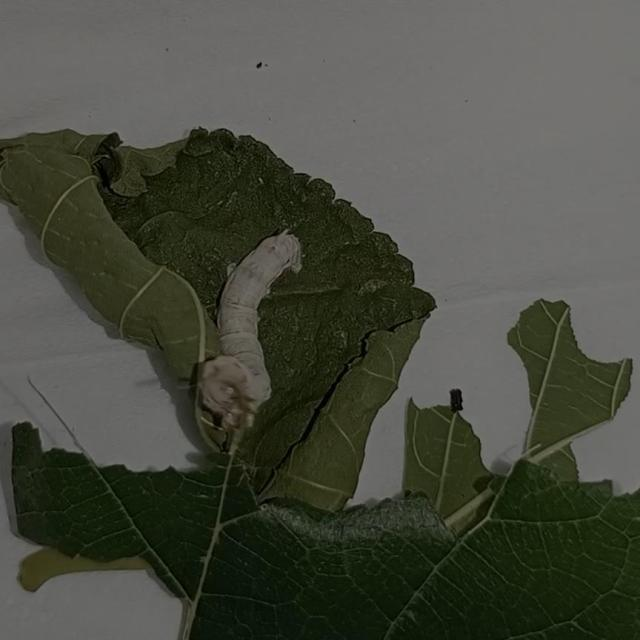Healthy: (142, 200, 422, 496)
